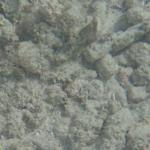dead: (9, 3, 147, 146)
